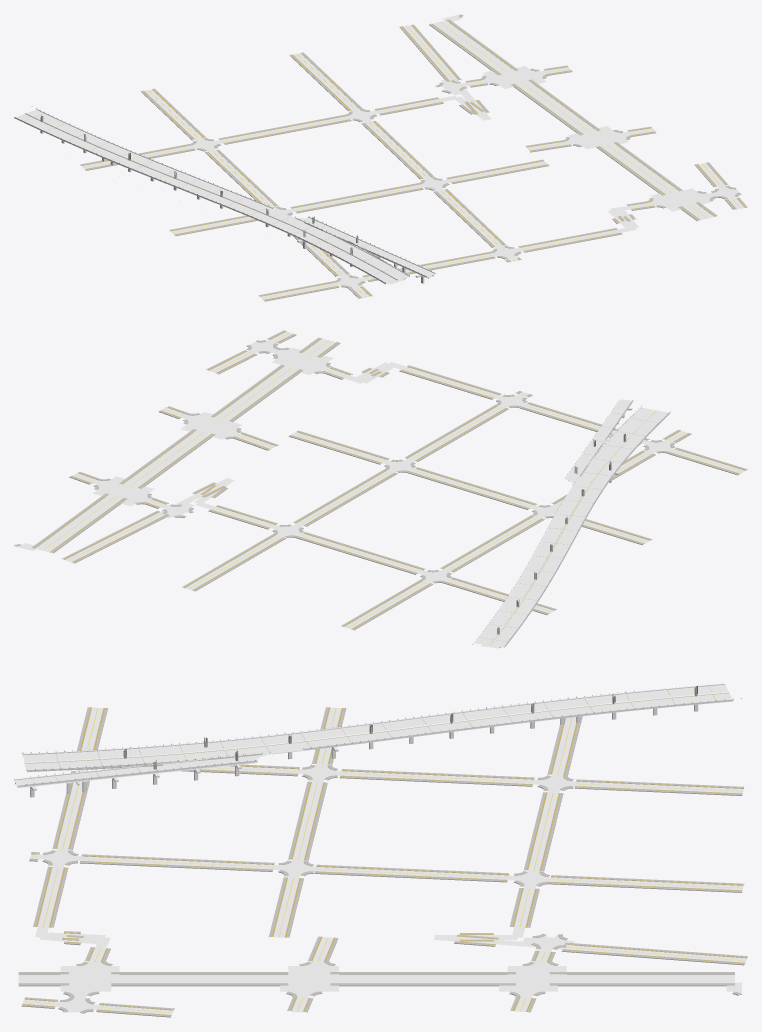
File: roads_-3_-1.gltf
3 views of the same model, one above another, from view 1: azimuth 30°, elevation 25°; view 2: azimuth 150°, elevation 25°; view 3: azimuth 270°, elevation 25° (orthographic). The views are drawn at different scales.
Parts seen in each view (by area): view 1: roads_-3_-1_SH_wet_asphalt, roads_-3_-1_SH_sidewalk, roads_-3_-1_SH_concrete_pier, roads_-3_-1_Road_Tactile_Strip, roads_-3_-1_SH_kerb, roads_-3_-1_SH_concrete_barrier, roads_-3_-1_SH_road_marking_white, roads_-3_-1_SH_road_marking_yellow; view 2: roads_-3_-1_SH_wet_asphalt, roads_-3_-1_SH_sidewalk, roads_-3_-1_SH_concrete_pier, roads_-3_-1_Road_Tactile_Strip, roads_-3_-1_SH_kerb, roads_-3_-1_SH_concrete_barrier, roads_-3_-1_SH_road_marking_yellow, roads_-3_-1_SH_road_marking_white; view 3: roads_-3_-1_SH_wet_asphalt, roads_-3_-1_SH_sidewalk, roads_-3_-1_SH_concrete_pier, roads_-3_-1_Road_Tactile_Strip, roads_-3_-1_SH_concrete_barrier, roads_-3_-1_SH_kerb, roads_-3_-1_SH_road_marking_white, roads_-3_-1_SH_road_marking_yellow.
Boxes of the visible parts, x1=… form: roads_-3_-1_SH_wet_asphalt: x1=22, y1=14, x2=743, y2=299; roads_-3_-1_SH_sidewalk: x1=80, y1=14, x2=747, y2=301; roads_-3_-1_SH_concrete_pier: x1=14, y1=109, x2=434, y2=284; roads_-3_-1_Road_Tactile_Strip: x1=81, y1=20, x2=745, y2=299; roads_-3_-1_SH_kerb: x1=81, y1=15, x2=744, y2=299; roads_-3_-1_SH_concrete_barrier: x1=14, y1=108, x2=435, y2=283; roads_-3_-1_SH_road_marking_white: x1=19, y1=19, x2=742, y2=296; roads_-3_-1_SH_road_marking_yellow: x1=28, y1=22, x2=740, y2=297; roads_-3_-1_SH_wet_asphalt: x1=14, y1=331, x2=744, y2=646; roads_-3_-1_SH_sidewalk: x1=14, y1=330, x2=747, y2=630; roads_-3_-1_SH_concrete_pier: x1=475, y1=399, x2=670, y2=648; roads_-3_-1_Road_Tactile_Strip: x1=34, y1=331, x2=745, y2=629; roads_-3_-1_SH_kerb: x1=15, y1=331, x2=745, y2=629; roads_-3_-1_SH_concrete_barrier: x1=474, y1=398, x2=670, y2=646; roads_-3_-1_SH_road_marking_yellow: x1=43, y1=333, x2=742, y2=641; roads_-3_-1_SH_road_marking_white: x1=35, y1=332, x2=742, y2=646; roads_-3_-1_SH_wet_asphalt: x1=16, y1=685, x2=746, y2=1014; roads_-3_-1_SH_sidewalk: x1=18, y1=707, x2=747, y2=1017; roads_-3_-1_SH_concrete_pier: x1=14, y1=684, x2=732, y2=797; roads_-3_-1_Road_Tactile_Strip: x1=19, y1=707, x2=746, y2=1015; roads_-3_-1_SH_concrete_barrier: x1=14, y1=683, x2=733, y2=786; roads_-3_-1_SH_kerb: x1=19, y1=707, x2=746, y2=1014; roads_-3_-1_SH_road_marking_white: x1=17, y1=685, x2=743, y2=1011; roads_-3_-1_SH_road_marking_yellow: x1=23, y1=693, x2=745, y2=1012.
Size of what is drawn, in the model's own units: 534 by 20.05 by 522.
